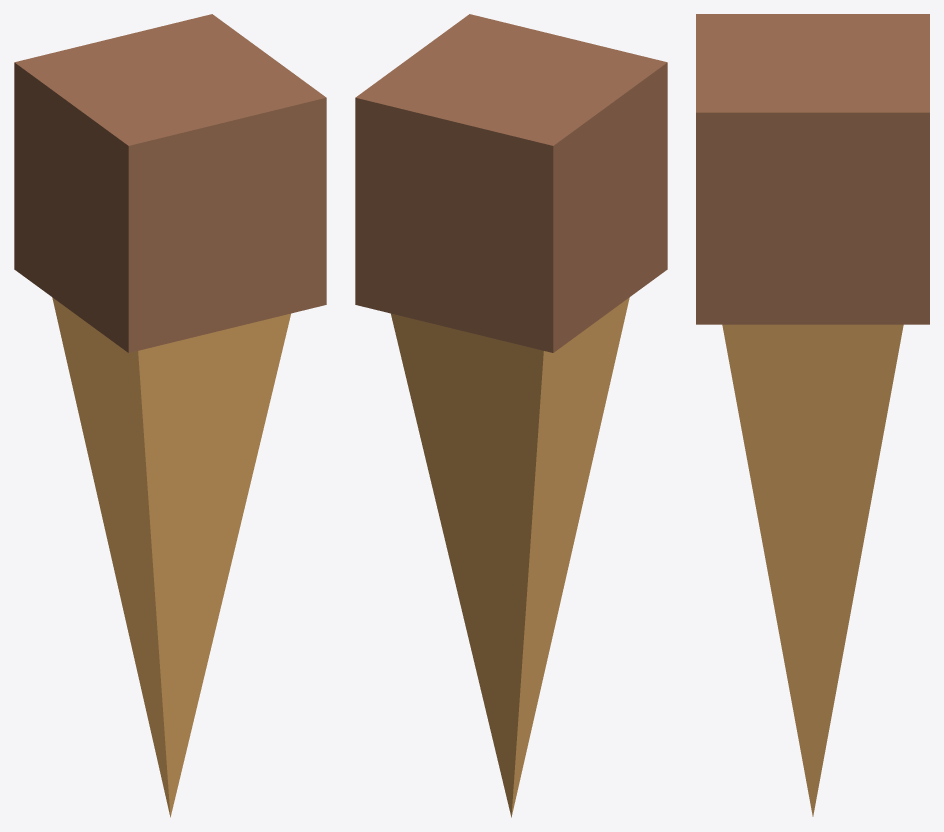
The model's file is CandylandIcecream_03.fbx.
3 views of the same model, side by side, from view 1: azimuth 30°, elevation 25°; view 2: azimuth 150°, elevation 25°; view 3: azimuth 270°, elevation 25° (orthographic). The views are drawn at different scales.
Parts seen in each view (by area): view 1: CandylandIcecream_03; view 2: CandylandIcecream_03; view 3: CandylandIcecream_03.
Boxes of the visible parts, left/top/right/bottom form: CandylandIcecream_03: left=14, top=14, right=326, bottom=817; CandylandIcecream_03: left=355, top=14, right=667, bottom=817; CandylandIcecream_03: left=696, top=14, right=929, bottom=816.
Bounding box in the file's own units: 0.254 × 0.9048 × 0.254.
